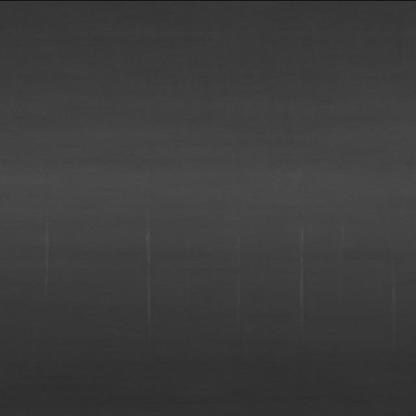waist_folding: (36, 228, 361, 352)
